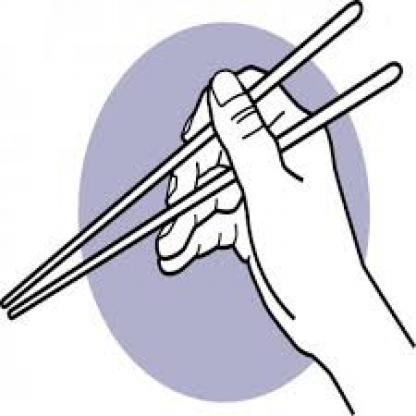chopstick: (2, 2, 364, 307), (9, 61, 405, 320)
